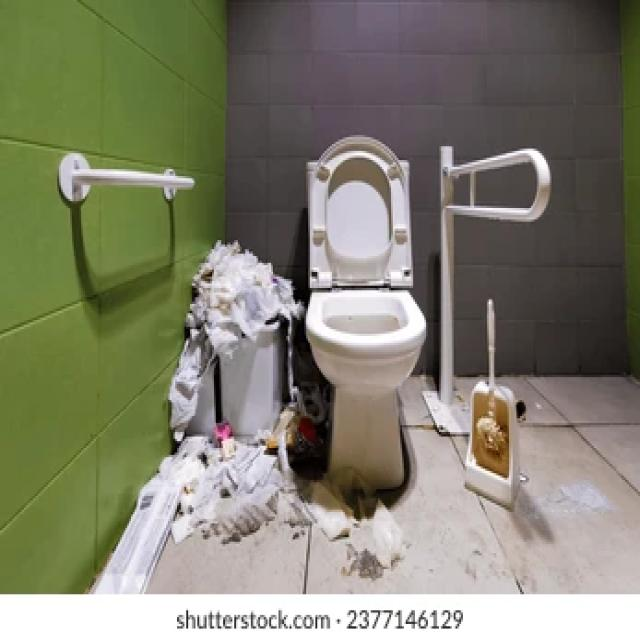garbage: (292, 464, 418, 587), (154, 440, 285, 550), (544, 457, 626, 550)
overflow_bin: (161, 214, 298, 442)
